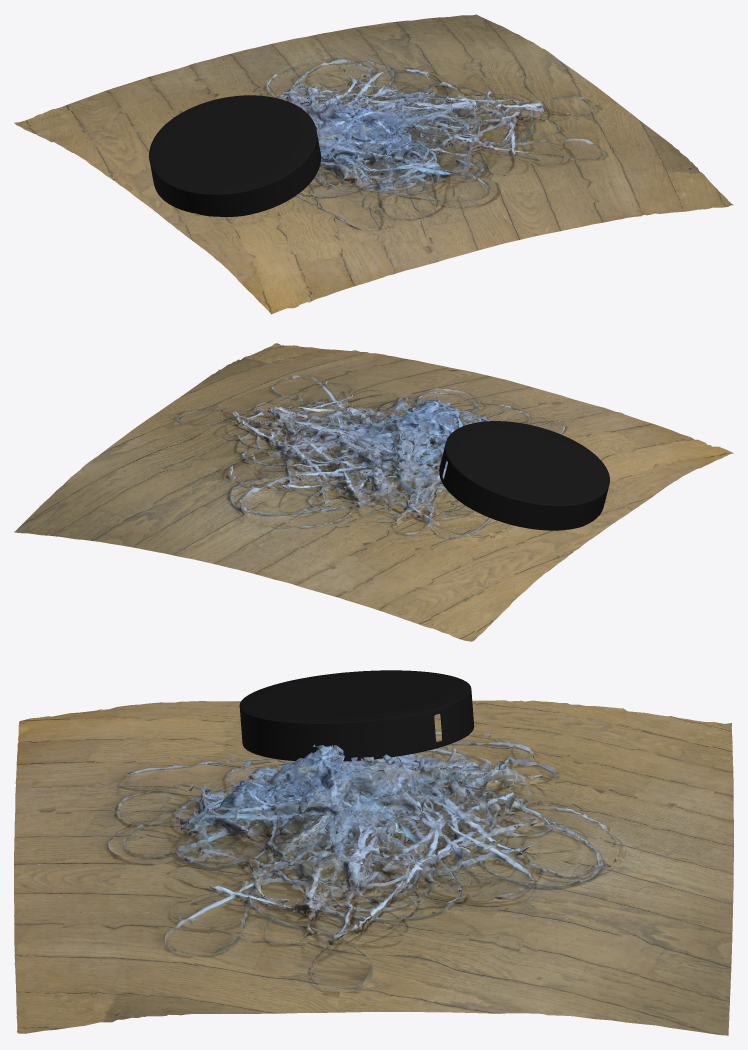
The model's file is after2fbx.fbx.
3 views of the same model, one above another, from view 1: azimuth 30°, elevation 25°; view 2: azimuth 150°, elevation 25°; view 3: azimuth 270°, elevation 25° (orthographic). The views are drawn at different scales.
Visible parts, largest first — view 1: Cylinder; view 2: Cylinder; view 3: Cylinder.
Part boxes in pixels (box(x1,y1,x2,y2)): Cylinder: box(14, 14, 733, 314); Cylinder: box(14, 343, 733, 641); Cylinder: box(14, 670, 733, 1035).
Size of the model in its own units: 2267 by 374 by 2222.
